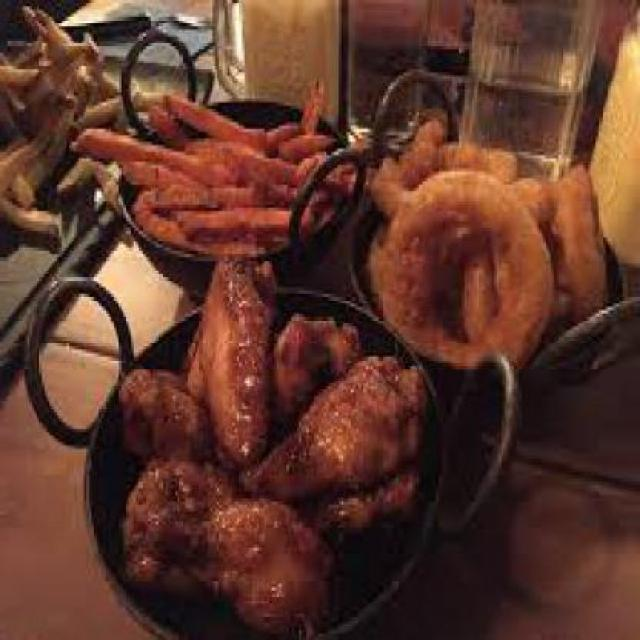chicken wings: (113, 251, 425, 637)
french fries: (2, 9, 152, 251)
onion rings: (356, 108, 613, 370)
sweet potato: (86, 69, 351, 257)
